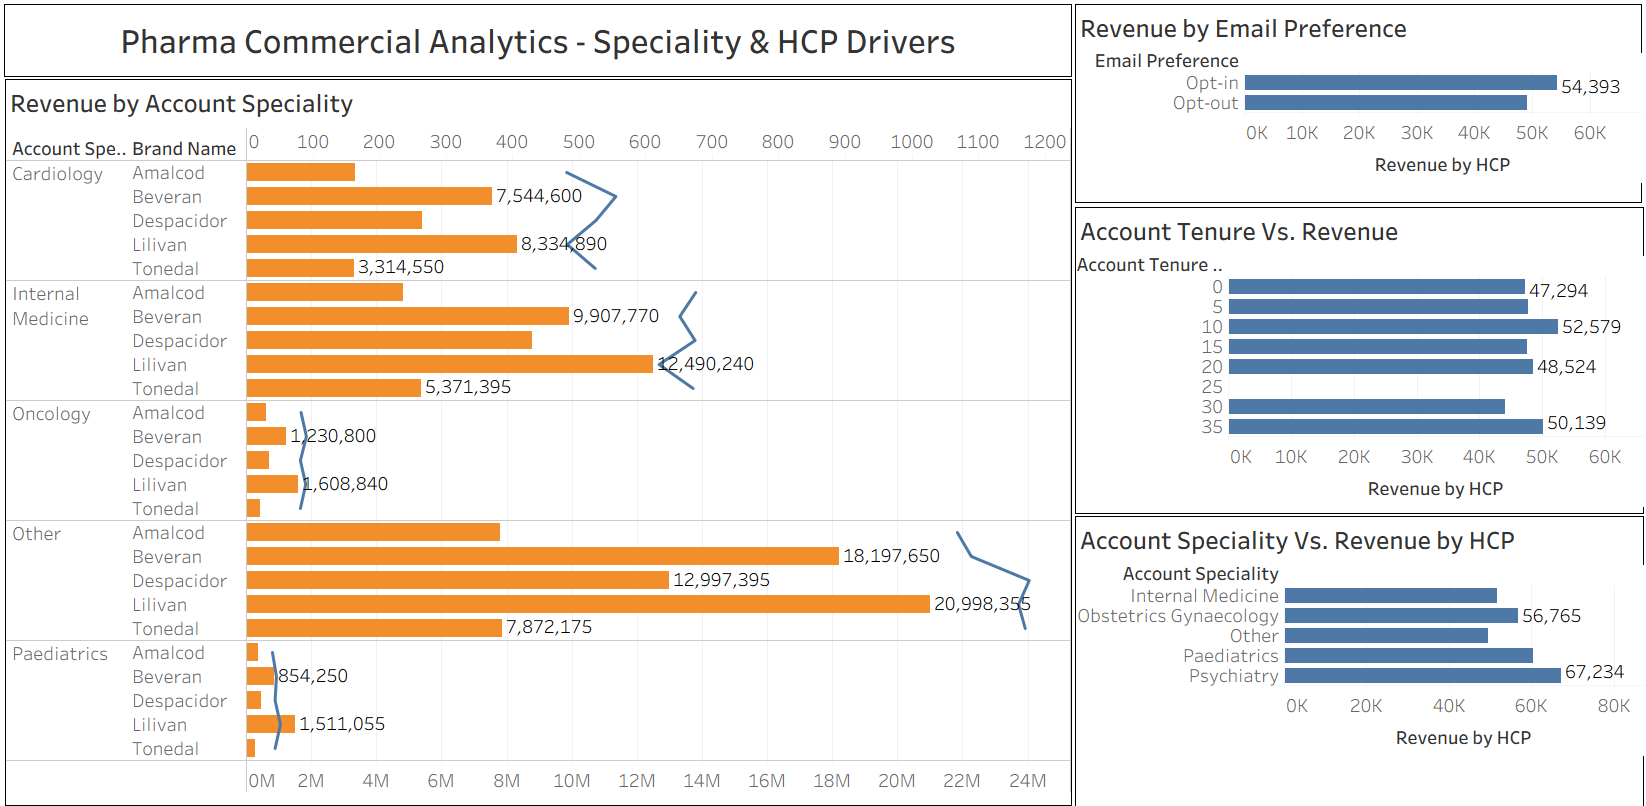

This screenshot's page, from the dashboard's own definition file:
{"tool":"tableau","page":{"name":"Pharma Commercial Analytics","canvas":[1000,1000],"units":"permille","ordinal":0},"visuals":[{"type":"text","box":[2.4,5,648.9,90.6]},{"type":"worksheet","title":"Revenue by Email Preference","mark":"Automatic","rows":["EMAIL_PREFERENCE"],"cols":["Calculation_1311462392676352"],"box":[653.1,5,344.5,246.9]},{"type":"worksheet","title":"Revenue by Speciality","mark":"Automatic","rows":["ACCOUNT_SPECIALITY","BRAND_NAME"],"cols":["Calculation_1407119723016192","ACCOUNT_ID"],"box":[3,98,648.2,902]},{"type":"worksheet","title":"Account Tenure Vs Revenue per HCP","mark":"Automatic","rows":["Account Tenure (bin)"],"cols":["Calculation_1311462392676352"],"box":[653.1,256.8,345.7,380.9]},{"type":"worksheet","title":"Speciality Vs Revenue by HCP","mark":"Automatic","rows":["ACCOUNT_SPECIALITY"],"cols":["Calculation_1311462392676352"],"box":[653.1,640.2,345.7,361]}]}

Visuals, with their boxes on the dashboard's canvas, which has no fixed pixel size, in thousandths of its width and height (x1, y1, x2, y2). These are canvas units, not pixel positions in the 1646x806 screenshot, which may show the page scaled, cropped or inside an application window:
text: 2, 5, 651, 96
"Revenue by Email Preference" worksheet: 653, 5, 998, 252
"Revenue by Speciality" worksheet: 3, 98, 651, 1000
"Account Tenure Vs Revenue per HCP" worksheet: 653, 257, 999, 638
"Speciality Vs Revenue by HCP" worksheet: 653, 640, 999, 1001
